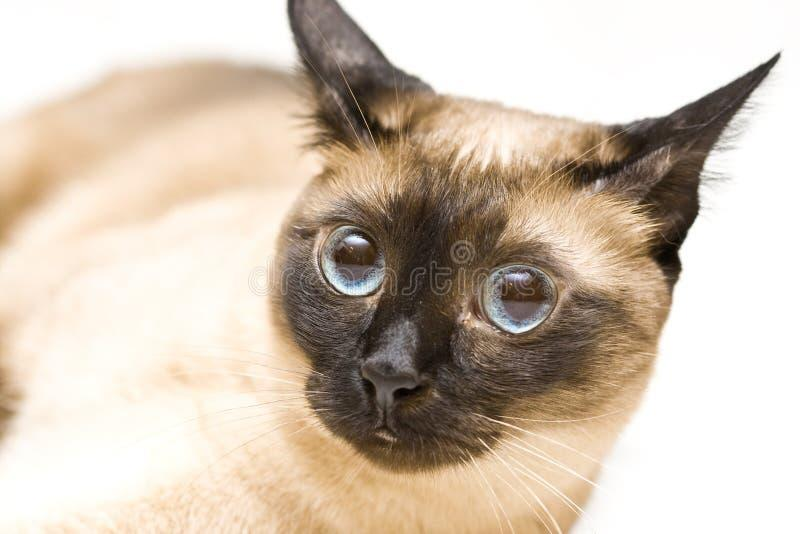siamese: (246, 1, 758, 514)
